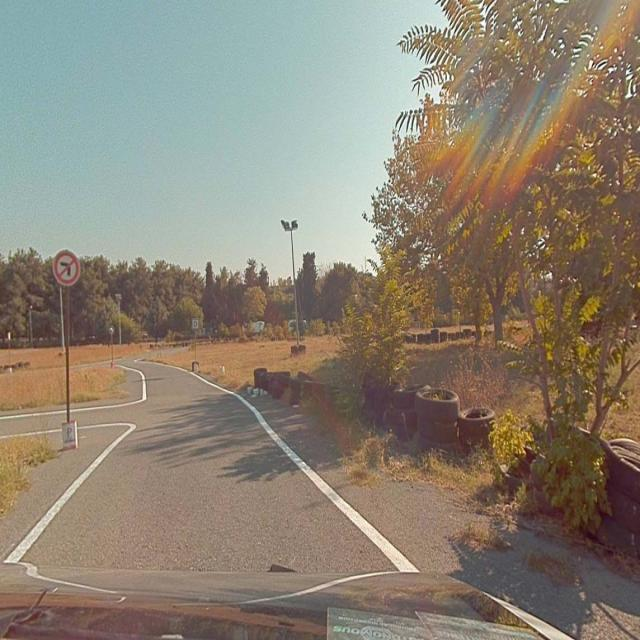durak: (192, 319, 198, 329)
soladonulmez: (54, 253, 78, 283)
